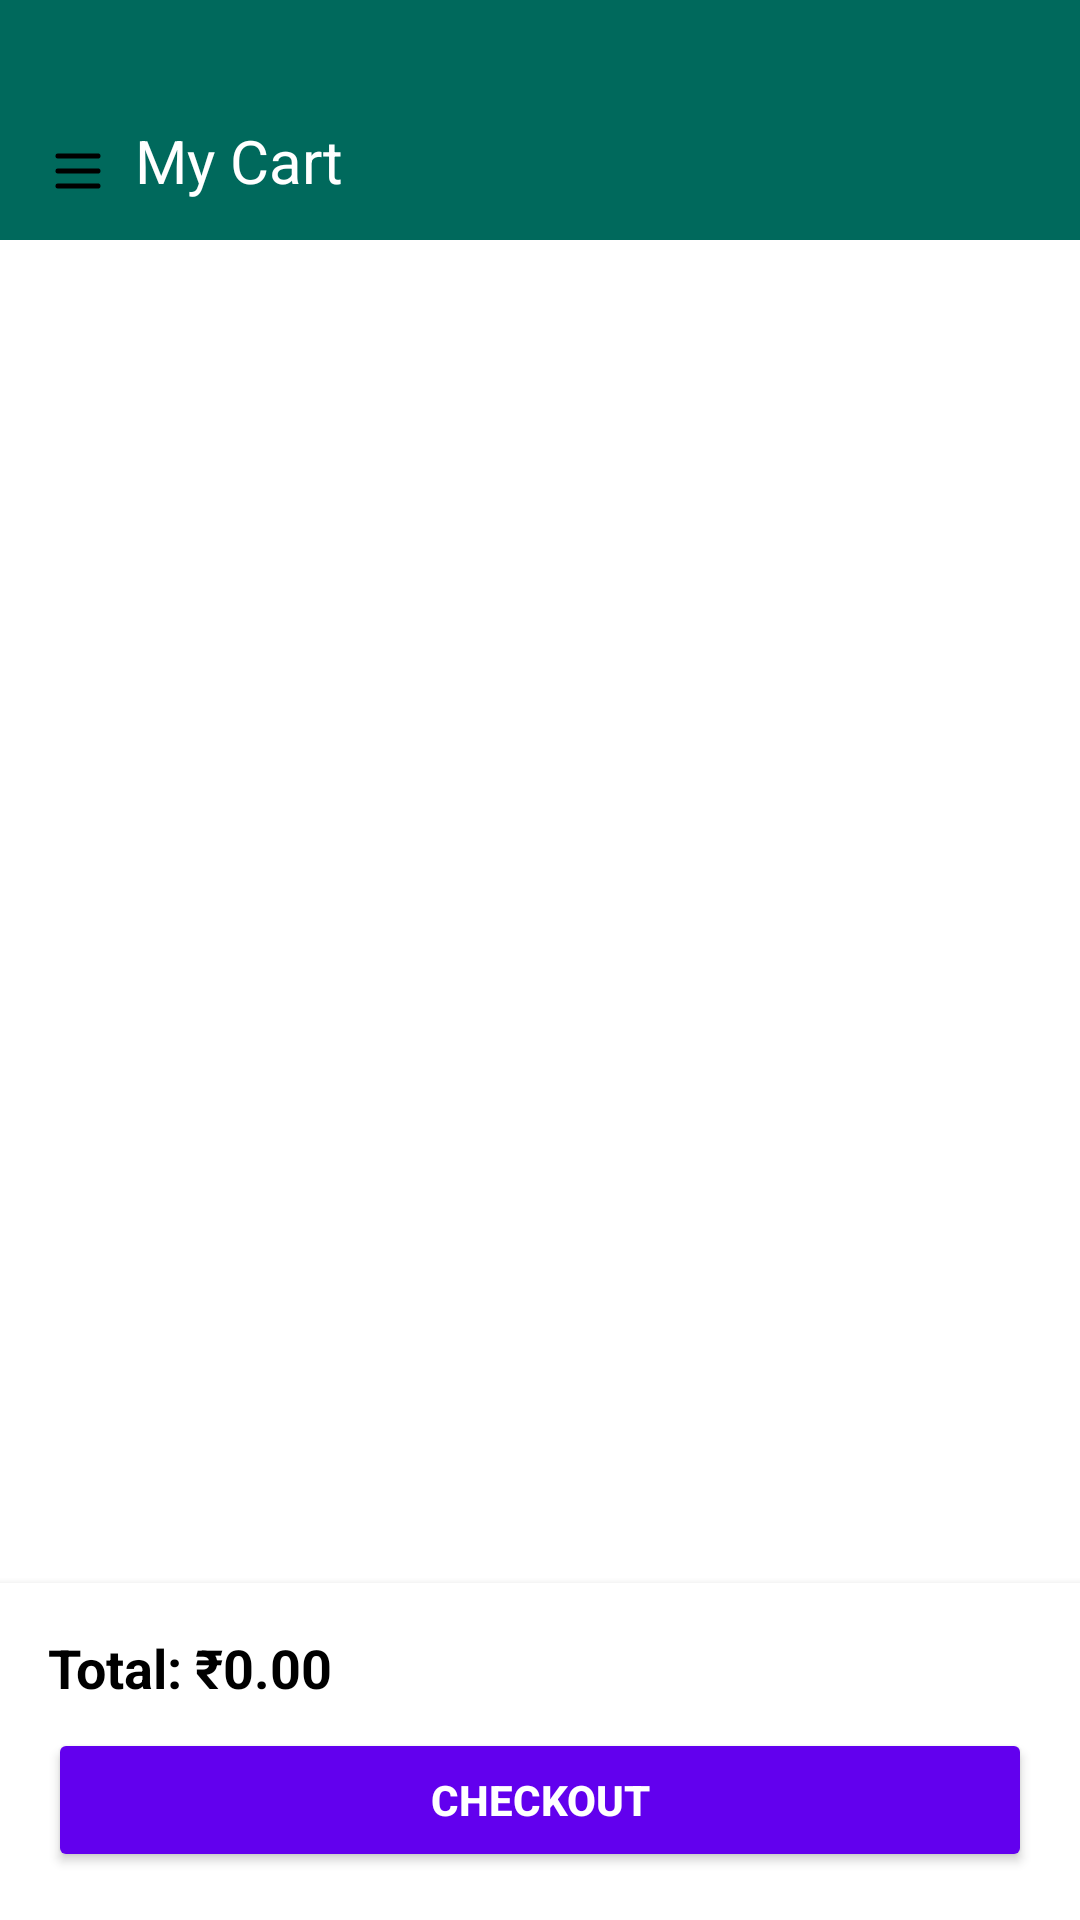

Named icons in this screenshot (1080 x 1920) and their bounding boxes, (x1, y1, x2, y2):
Menu: (55, 153, 101, 189)
